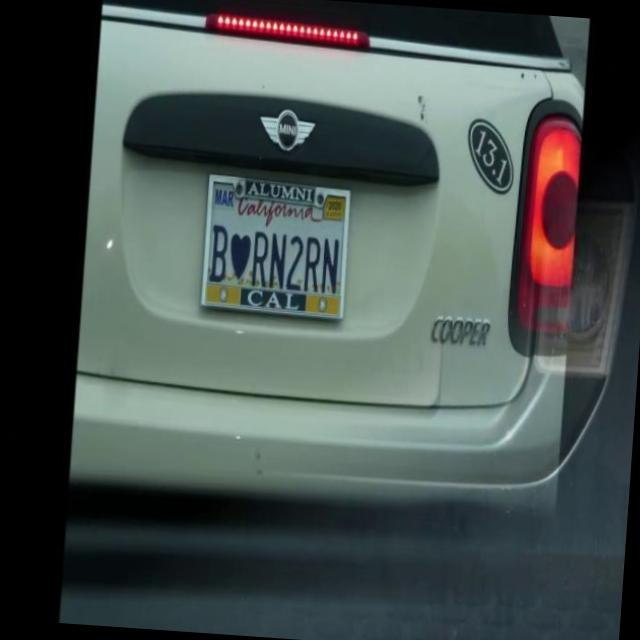LicensePlate: (197, 170, 354, 322)
